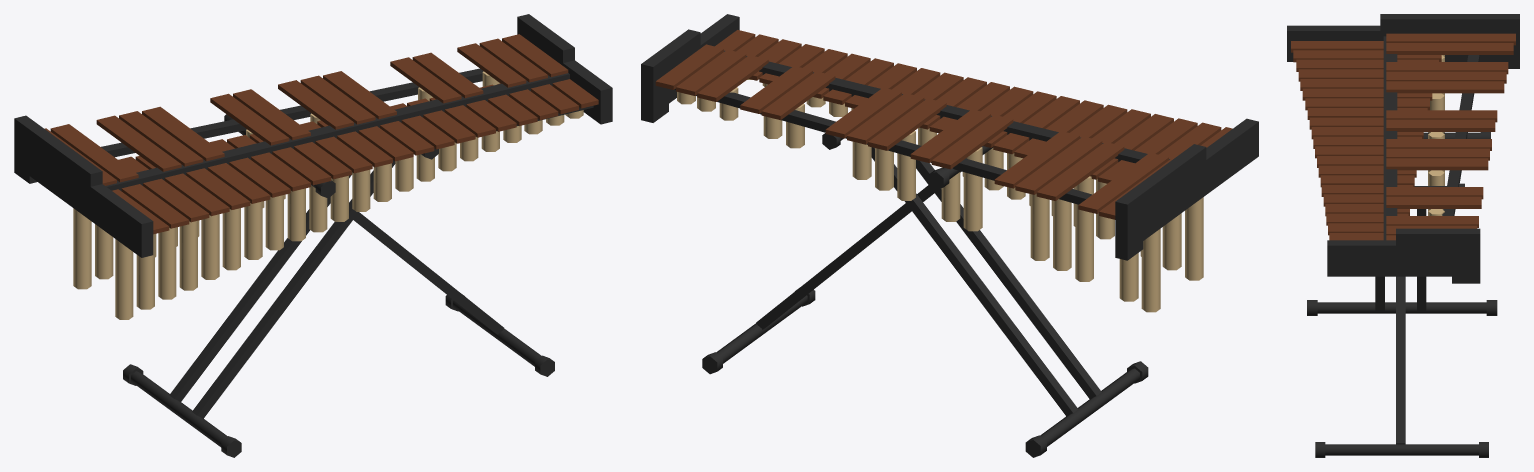
Rendered from Marimba_01.fbx.
The picture shows the model from 3 angles, left to right: view 1: azimuth 30°, elevation 25°; view 2: azimuth 150°, elevation 25°; view 3: azimuth 270°, elevation 25°; orthographic projection. The views are drawn at different scales.
Visible parts, largest first — view 1: Marimba_01; view 2: Marimba_01; view 3: Marimba_01.
Boxes of the visible parts, x1=… form: Marimba_01: x1=14, y1=14, x2=612, y2=457; Marimba_01: x1=641, y1=14, x2=1258, y2=457; Marimba_01: x1=1287, y1=14, x2=1519, y2=457.
Size of the model in its own units: 1.43 by 0.7732 by 0.6377.
